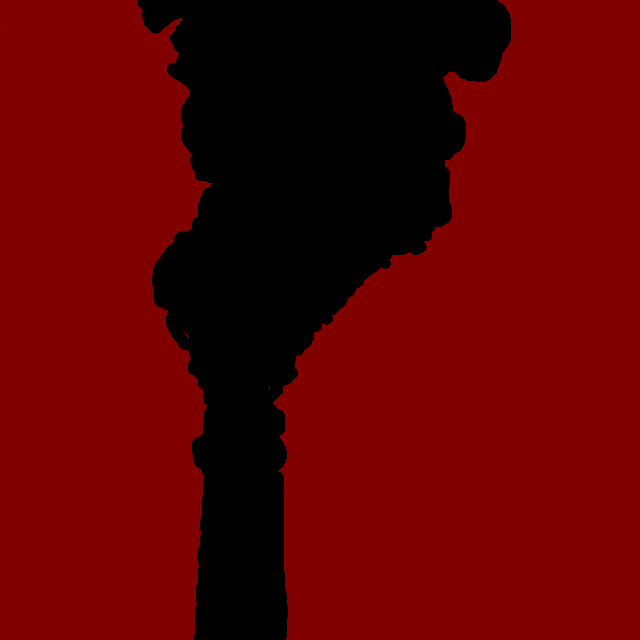Sky: (1, 1, 639, 639)
